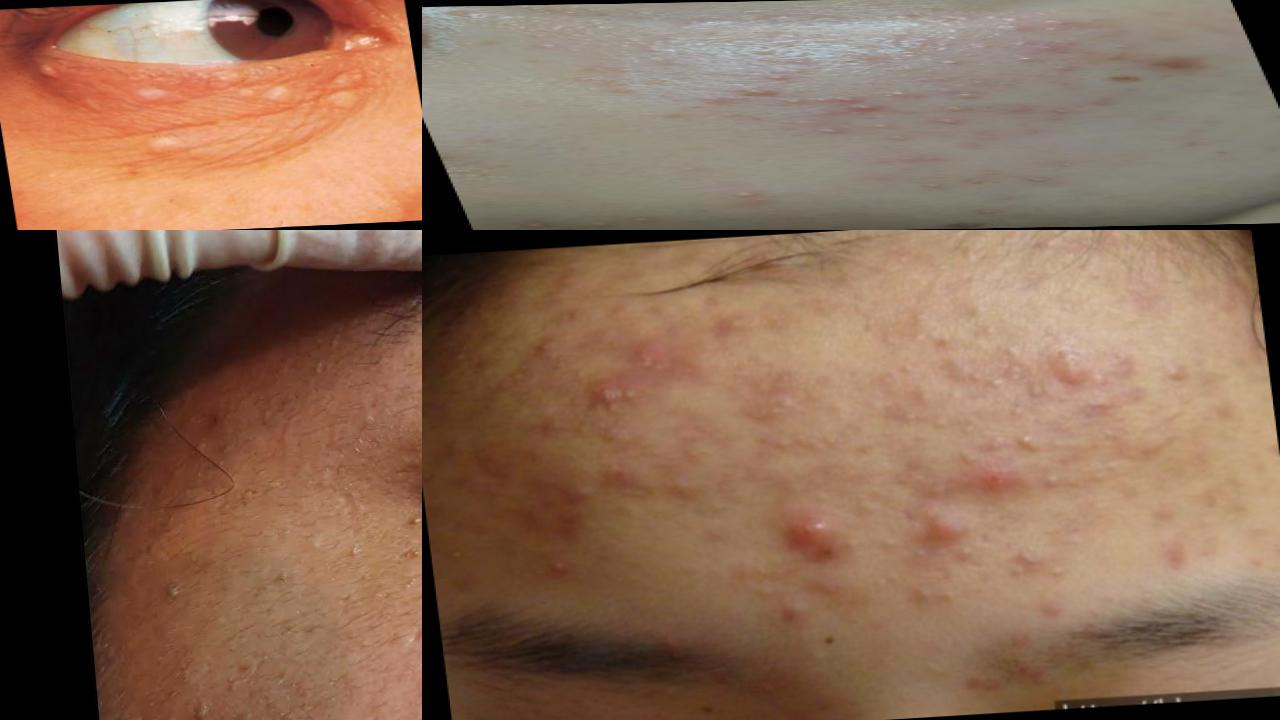milium: (178, 682, 221, 720), (345, 542, 374, 575), (406, 512, 423, 539)
papular: (967, 449, 1043, 503), (1038, 342, 1101, 395), (589, 459, 658, 504), (916, 501, 977, 550), (1143, 55, 1255, 74)
purulent: (764, 501, 863, 567), (511, 214, 679, 231), (680, 190, 807, 211), (805, 95, 903, 116), (739, 65, 823, 82), (720, 85, 789, 101), (925, 90, 990, 103), (958, 206, 1018, 218), (905, 180, 963, 192), (869, 120, 933, 130), (1010, 175, 1065, 186), (805, 127, 852, 139), (942, 107, 997, 115), (932, 118, 967, 127)
sebo-crystan-conglo: (616, 342, 704, 385), (570, 377, 649, 415)
syringoma: (119, 58, 392, 121), (132, 129, 220, 161)
whitehead: (911, 13, 1145, 35), (529, 560, 606, 607), (737, 375, 809, 424), (997, 540, 1071, 587), (524, 328, 596, 376), (896, 578, 973, 614), (1150, 355, 1212, 396), (919, 39, 1056, 57), (758, 419, 811, 464), (706, 311, 780, 343), (808, 636, 854, 671), (745, 583, 798, 611), (900, 382, 951, 411), (975, 363, 1021, 395), (1004, 426, 1048, 457), (704, 488, 751, 517), (512, 42, 594, 57), (860, 493, 893, 527), (565, 483, 602, 510), (876, 527, 909, 557), (1041, 468, 1076, 496), (666, 473, 708, 494), (922, 60, 979, 69), (874, 133, 919, 143), (1009, 58, 1052, 65)
